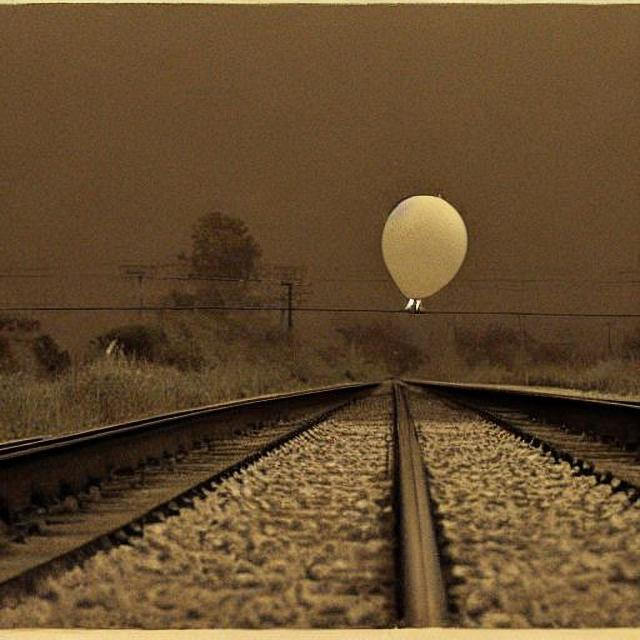balloon: (377, 190, 468, 304)
